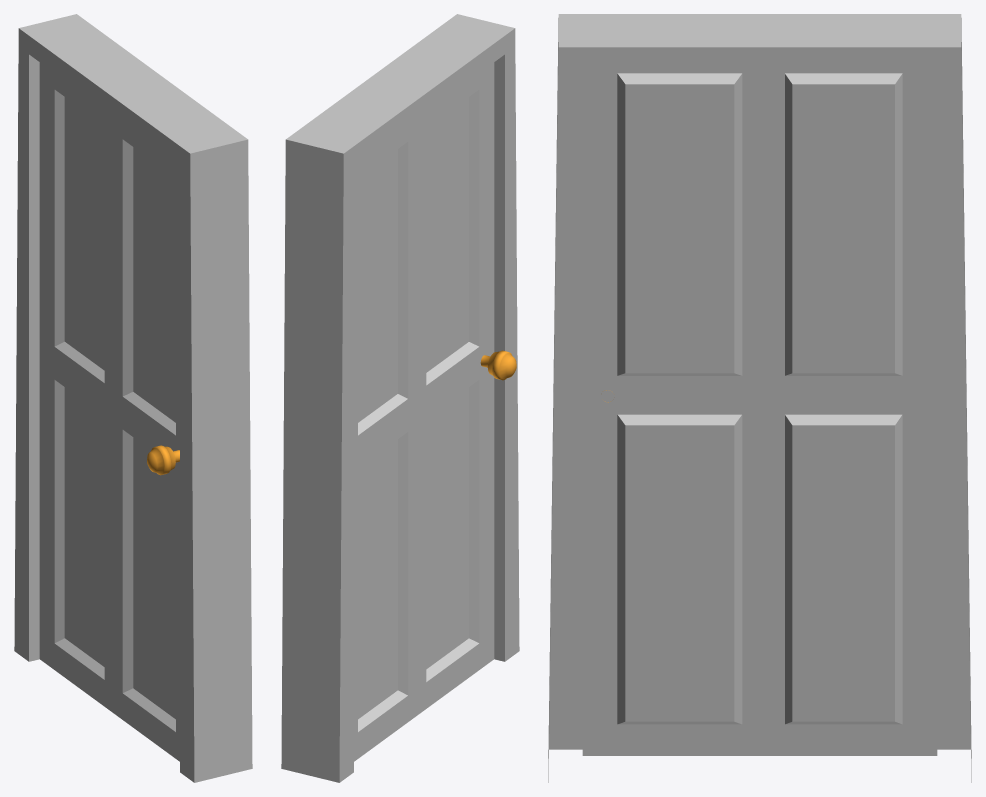
The model's file is Door.fbx.
3 views of the same model, side by side, from view 1: azimuth 30°, elevation 25°; view 2: azimuth 150°, elevation 25°; view 3: azimuth 270°, elevation 25° (orthographic). The views are drawn at different scales.
Visible parts, largest first — view 1: Door; view 2: Door; view 3: Door.
Part boxes in pixels (<box>): Door: <box>14,14,252,782</box>; Door: <box>281,14,519,782</box>; Door: <box>548,14,971,782</box>.
Size of the model in its own units: 27.02 by 206 by 107.
